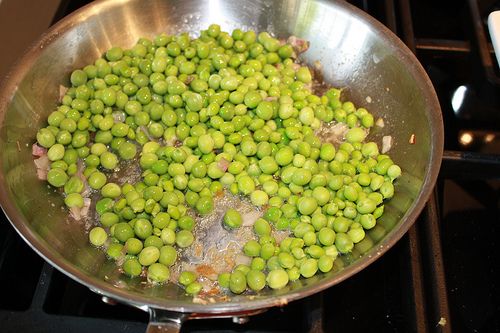boiled peas: (43, 30, 400, 292)
